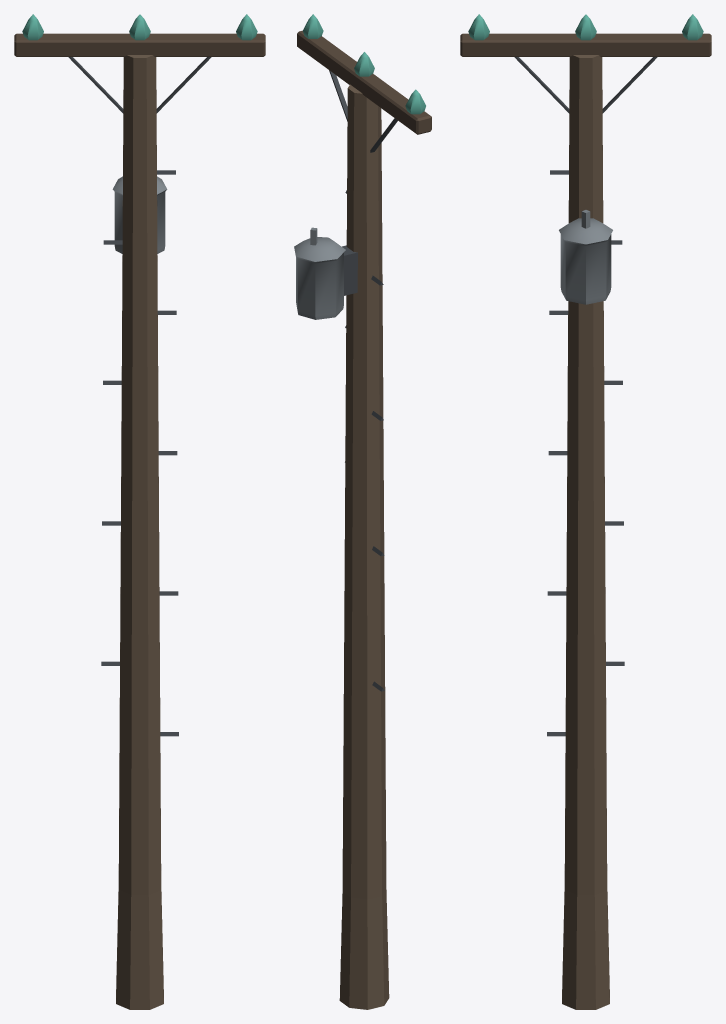
The model's file is World_UtilityPole.fbx.
3 renders of one model, left to right at view 1: azimuth 90°, elevation 25°; view 2: azimuth 210°, elevation 25°; view 3: azimuth 270°, elevation 25°, orthographic. The views are drawn at different scales.
Visible parts, largest first — view 1: Pole, Crossarm, Hardware, Transformer, Insulators; view 2: Pole, Transformer, Crossarm, Hardware, Insulators; view 3: Pole, Crossarm, Transformer, Hardware, Insulators.
Part boxes in pixels (bbox=[...]): Pole: bbox=[116, 55, 163, 1009]; Crossarm: bbox=[14, 33, 265, 56]; Hardware: bbox=[68, 57, 211, 736]; Transformer: bbox=[112, 176, 167, 253]; Insulators: bbox=[22, 14, 257, 40]; Pole: bbox=[339, 84, 389, 1009]; Transformer: bbox=[294, 227, 345, 319]; Crossarm: bbox=[297, 30, 431, 134]; Hardware: bbox=[329, 70, 397, 691]; Insulators: bbox=[303, 14, 425, 114]; Pole: bbox=[562, 55, 609, 1009]; Crossarm: bbox=[460, 33, 711, 56]; Transformer: bbox=[559, 210, 612, 304]; Hardware: bbox=[514, 57, 657, 736]; Insulators: bbox=[468, 14, 703, 40].
Size of the model in its own units: 254 by 2598 by 600.
